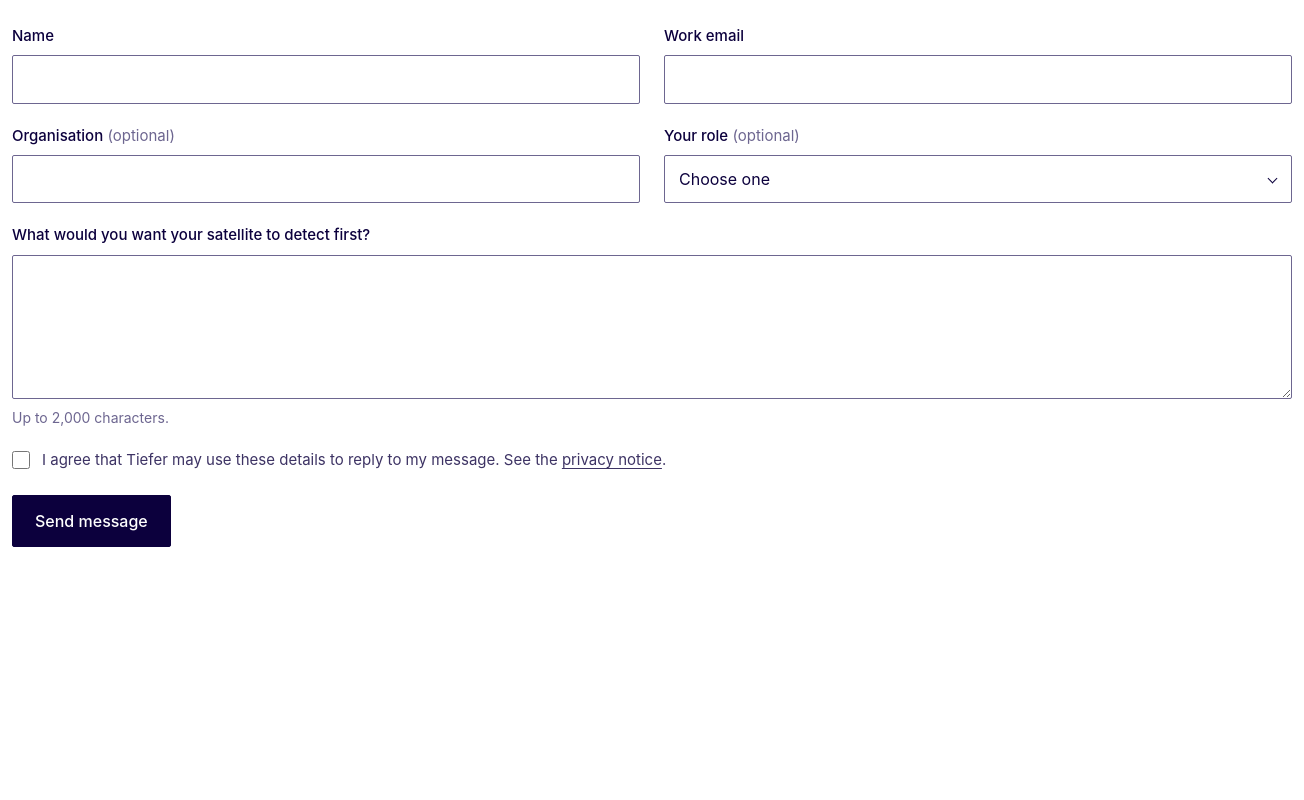
Test case: ties field errors to their inputs and focuses the status message
This screenshot has width=1304, height=800.
Type "Ada" into the field labelled "Name" at x=326, y=80, box [12,55,640,104]
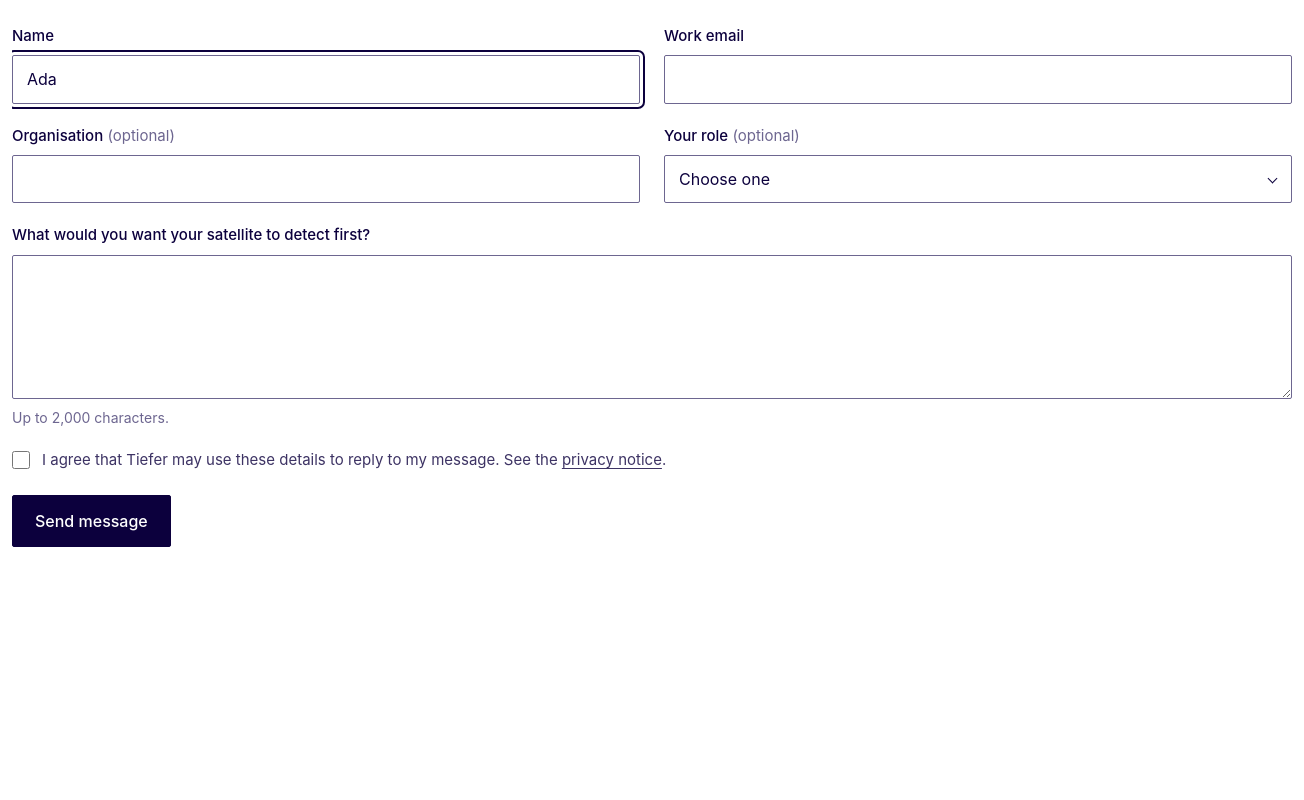
Type "ada@example.org" into the field labelled "Work email" at x=978, y=80, box [664,55,1292,104]
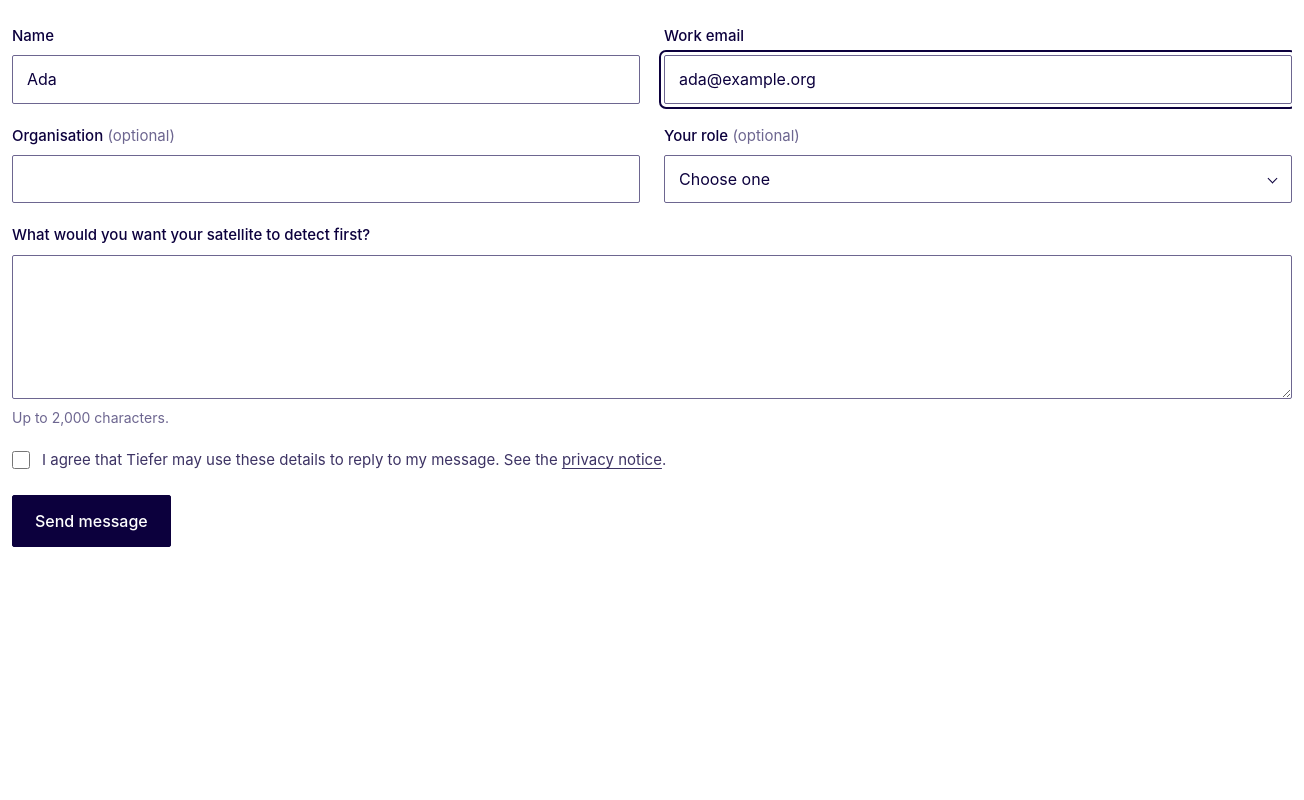
Type "Fires" into the text box labelled "What would you want your satellite to detect first?" at x=652, y=326, box [12,254,1292,398]
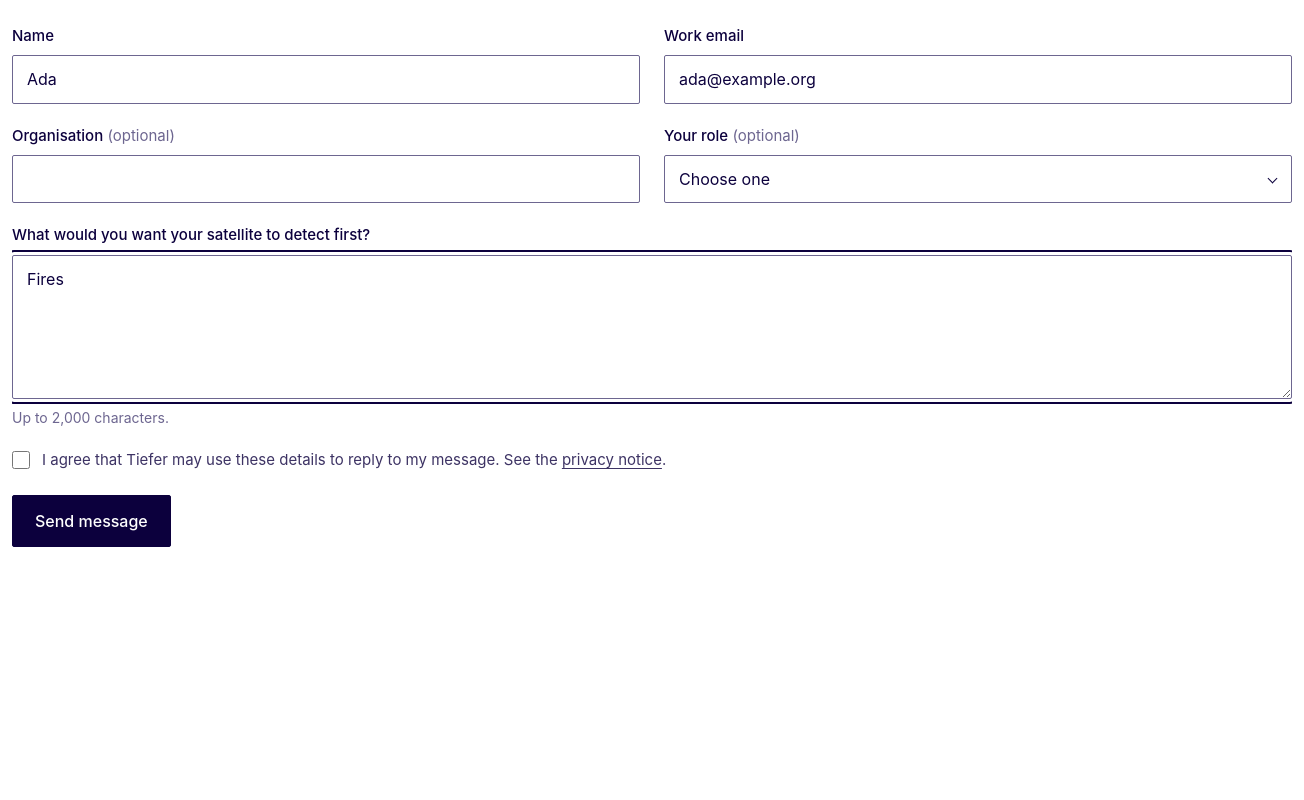
Click the checkbox at x=21, y=460, box [12,451,30,469]
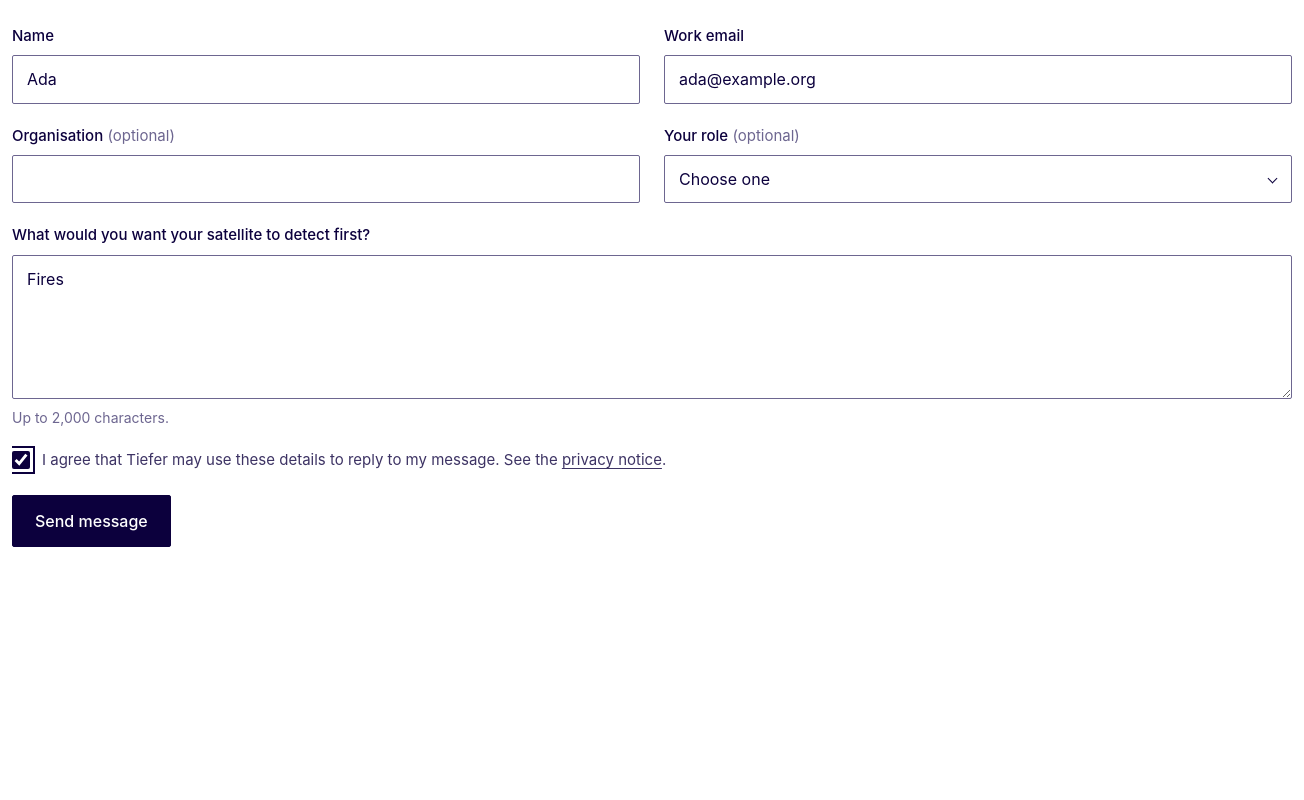
Click the button "Send message" at x=91, y=522, box [12,496,171,548]
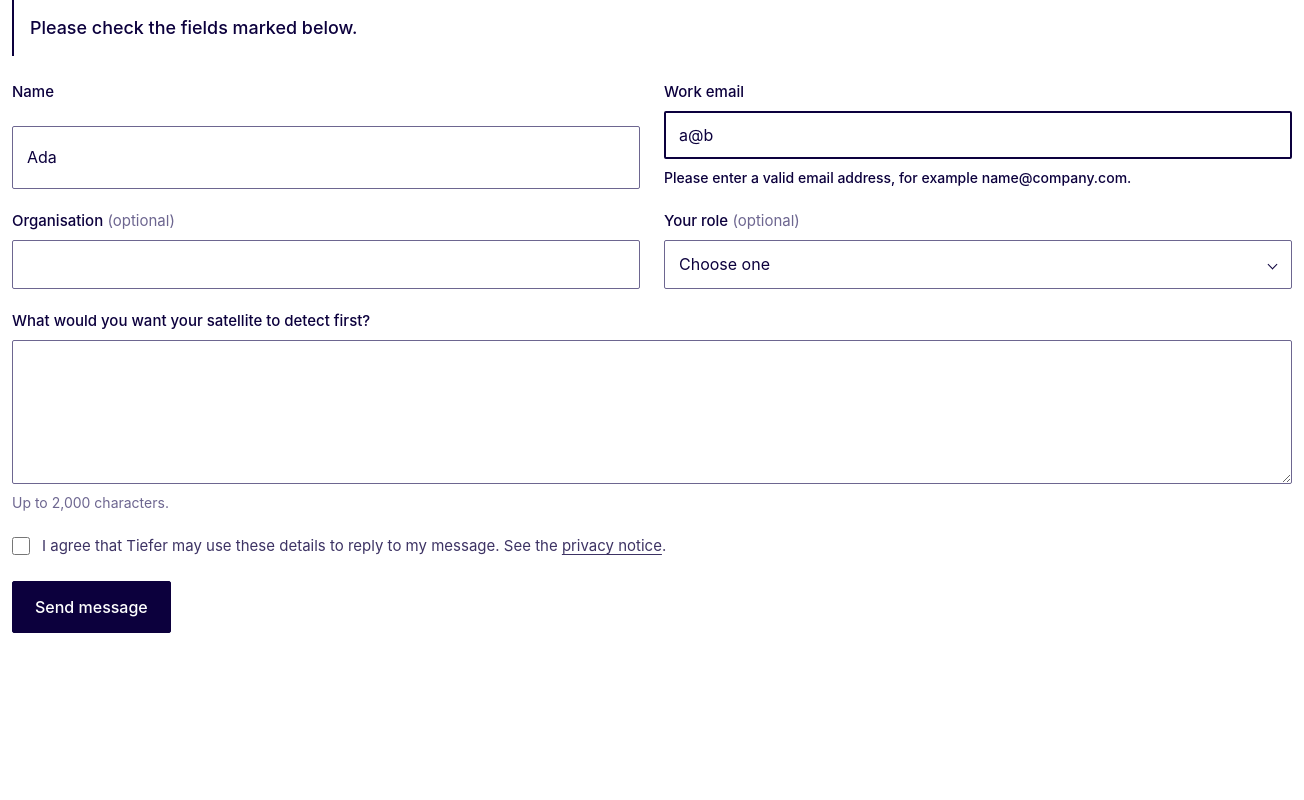
Check: the field labelled "Name" holds "Ada", box [12,126,640,189]
Check: the field labelled "Work email" holds "a@b", box [664,111,1292,159]
